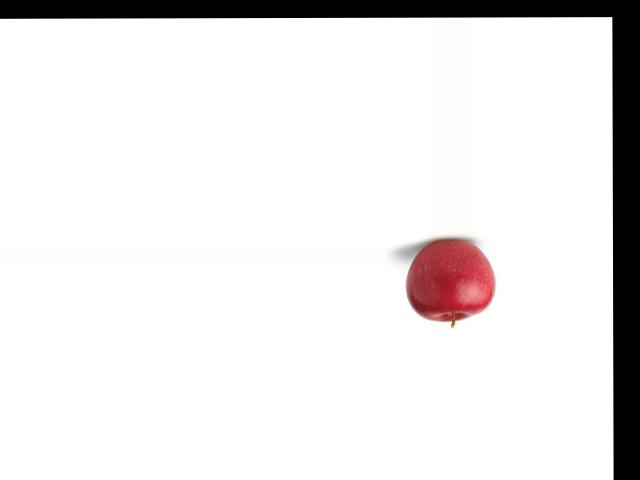apple: (403, 236, 496, 329)
